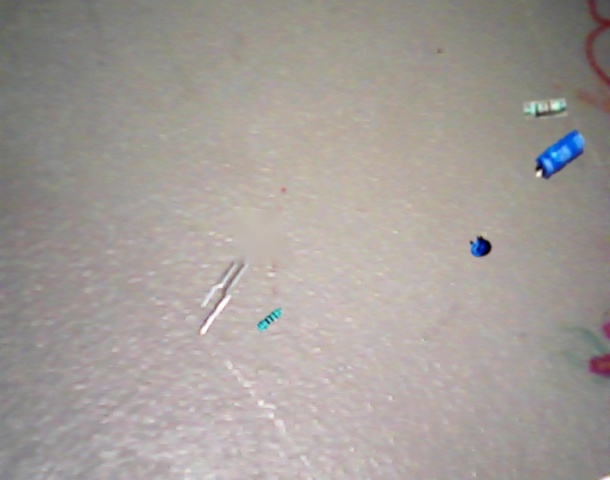capacitor: (535, 129, 585, 179), (470, 236, 492, 257)
resistor: (523, 98, 567, 120), (256, 307, 285, 333)
